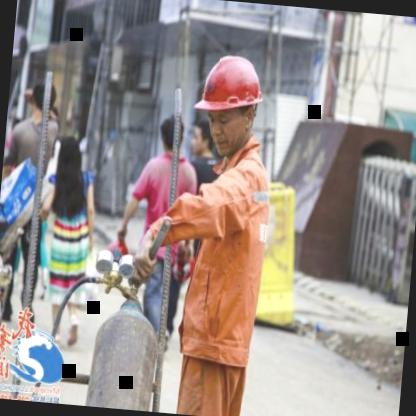helmet: (182, 44, 273, 176)
